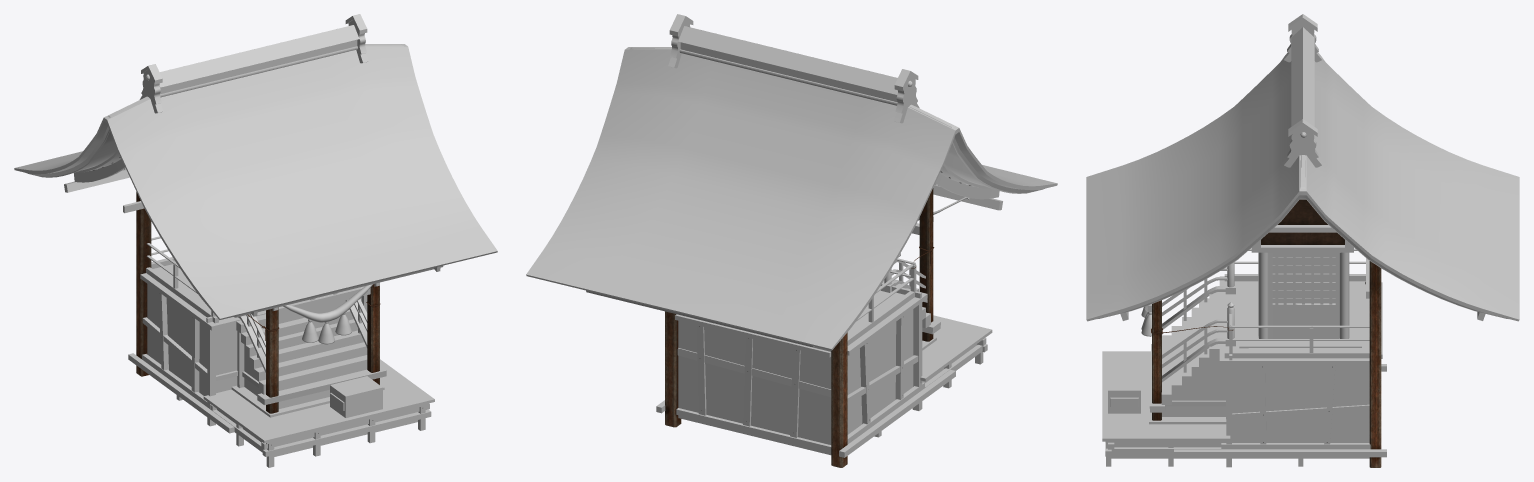
File: Shrine_02.fbx
3 renders of one model, left to right at view 1: azimuth 30°, elevation 25°; view 2: azimuth 150°, elevation 25°; view 3: azimuth 270°, elevation 25°, orthographic. The views are drawn at different scales.
Visible parts, largest first — view 1: Shrine_02_Roof_Testing_01.006, Shrine_02_Roof_Testing_01.001, Plane.206, Cube.767, Cube.809, Cube.778, Cube.851, Cube.762, Cube.852, Cube.764, Shrine_02_Roof_Testing_01.002, Cube.776 (+22 smaller); view 2: Shrine_02_Roof_Testing_01.006, Cube.809, Shrine_02_Roof_Testing_01.001, Cube.767, Cube.762, Plane.206, Shrine_02_Roof_Testing_01.002, Cube.819, Cube.825, Cube.835, Cube.810, Cube.828 (+10 smaller); view 3: Shrine_02_Roof_Testing_01.006, Cube.809, Plane.206, Cube.767, Cube.762, Cube.803, Cube.763, Shrine_02_Roof_Testing_01.001, Plane.226, Cube.823, Cube.788, Circle.126 (+24 smaller).
Part boxes in pixels (x1,y1,x2,y2): Shrine_02_Roof_Testing_01.006: (14,44,497,319); Shrine_02_Roof_Testing_01.001: (159,25,359,97); Plane.206: (203,359,434,443); Cube.767: (136,192,379,413); Cube.809: (147,284,361,395); Cube.778: (330,376,382,417); Cube.851: (259,355,367,394); Cube.762: (140,264,265,330); Cube.852: (254,342,367,381); Cube.764: (262,409,431,456); Shrine_02_Roof_Testing_01.002: (139,14,368,113); Cube.776: (257,366,386,405); Shrine_02_Roof_Testing_01.006: (526,47,1057,350); Cube.809: (678,309,913,455); Shrine_02_Roof_Testing_01.001: (678,26,897,105); Cube.767: (665,188,933,467); Cube.762: (675,286,927,357); Plane.206: (920,315,992,381); Shrine_02_Roof_Testing_01.002: (668,14,919,123); Cube.819: (839,369,955,457); Cube.825: (676,408,831,452); Cube.835: (677,348,831,397); Cube.810: (586,185,1002,347); Cube.828: (912,303,922,410); Shrine_02_Roof_Testing_01.006: (1086,58,1519,321); Cube.809: (1232,365,1369,458); Plane.206: (1102,351,1230,441); Cube.767: (1152,261,1381,467); Cube.762: (1219,276,1382,364); Cube.803: (1268,252,1340,338); Cube.763: (1239,287,1361,348); Shrine_02_Roof_Testing_01.001: (1291,27,1314,139); Plane.226: (1162,358,1225,416); Cube.823: (1174,449,1386,457); Cube.788: (1162,267,1227,382); Circle.126: (1258,252,1349,338).
Size of the model in its own units: 843 by 911 by 999.
